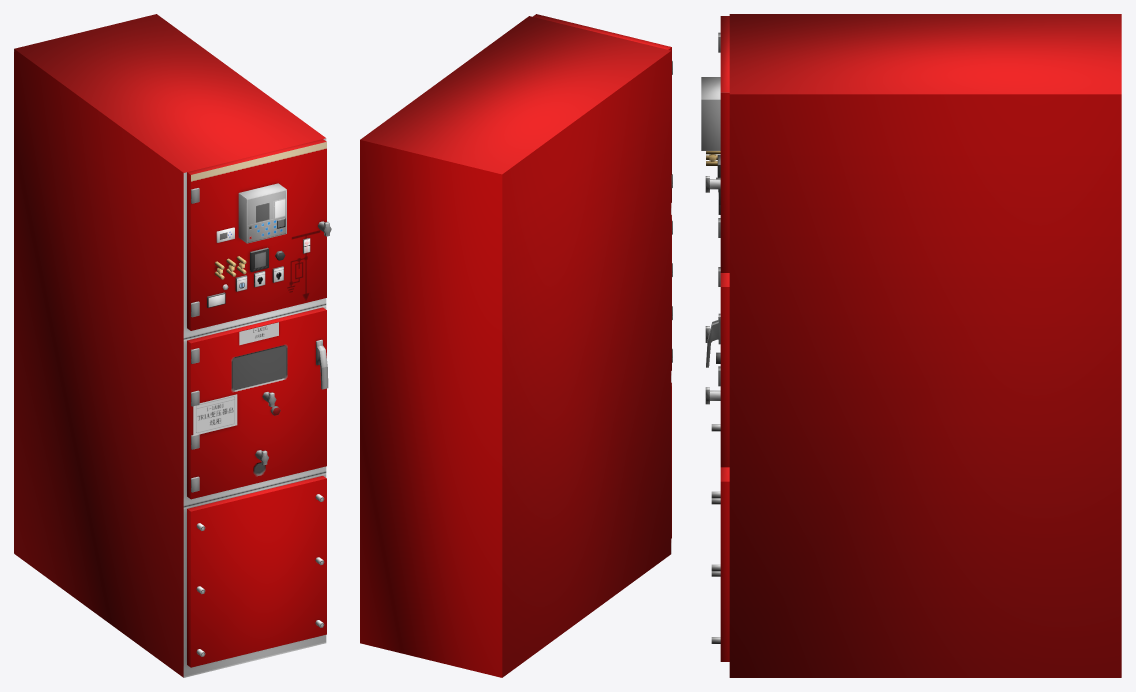
File: HVBTC.glb
The picture shows the model from 3 angles, left to right: view 1: azimuth 30°, elevation 25°; view 2: azimuth 150°, elevation 25°; view 3: azimuth 270°, elevation 25°; orthographic projection. The views are drawn at different scales.
Visible parts, largest first — view 1: Cylinder001; view 2: Cylinder001; view 3: Cylinder001.
Part boxes in pixels (x1,y1,x2,y2): Cylinder001: (14,14,331,677); Cylinder001: (360,14,672,677); Cylinder001: (701,14,1121,677).
Size of the model in its own units: 65 by 220 by 144.
1 material, 1 textured.
